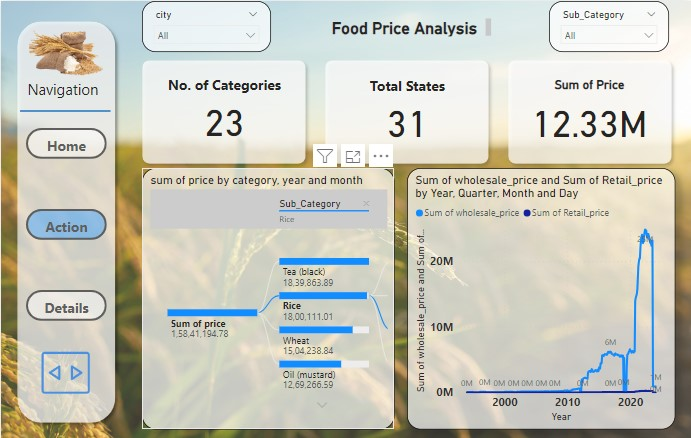

Layout of this report page (visuals, bound fields, positions):
{"tool":"powerbi","page":{"name":"Page 2","canvas":[1000,634],"ordinal":1},"visuals":[{"type":"shape","box":[15,20,160,600],"z":0},{"type":"actionButton","box":[35.5,184.2,117.1,44.7],"z":1000},{"type":"image","box":[31.4,31.4,128.6,84.3],"z":2000},{"type":"actionButton","box":[35.5,301.3,117.1,44.7],"z":3000},{"type":"actionButton","box":[35.5,418.4,117.1,44.7],"z":4000},{"type":"image","box":[50.7,493,85.9,93],"z":5000},{"type":"shape","box":[28.2,135.2,131,49.3],"z":6000},{"type":"shape","box":[196,77.2,254.7,168],"z":7000},{"type":"card","title":"No. of Categories","fields":{"Values":["food_prices_ind.no.of_foodtypes"]},"box":[221.3,107.9,204,102.7],"z":8000},{"type":"shape","box":[461.3,77.2,254.7,168],"z":9000},{"type":"card","title":"Total States","fields":{"Values":["food_prices_ind.Total_States"]},"box":[485.3,109.2,206.7,102.7],"z":10000},{"type":"lineChart","fields":{"Category":["food_prices_ind.date.Variation.Date Hierarchy.Year","food_prices_ind.date.Variation.Date Hierarchy.Quarter","food_prices_ind.date.Variation.Date Hierarchy.Month","food_prices_ind.date.Variation.Date Hierarchy.Day"],"Y":["Sum(food_prices_ind.wholesale_price)","Sum(food_prices_ind.Retail_price)"]},"box":[588,241.3,389.3,378.7],"z":11000},{"type":"shape","box":[726.7,77.2,254.7,168],"z":12000},{"type":"decompositionTreeVisual","title":"sum of price by category, year and month","fields":{"Analyze":["Sum(food_prices_ind.price)"],"ExplainBy":["food_prices_ind.commodity","food_prices_ind.year","food_prices_ind.date Hierarchy.month"]},"box":[204.3,241.4,365.7,378.6],"z":13000},{"type":"textbox","box":[33.3,108,122.7,42.7],"z":14000},{"type":"card","title":"Sum of Price","fields":{"Values":["Sum(food_prices_ind.Retail_price)"]},"box":[754.3,110,198.6,101.4],"z":15000},{"type":"slicer","fields":{"Values":["food_prices_ind.commodity"]},"box":[794.3,0,174.3,74.3],"z":16000},{"type":"slicer","fields":{"Values":["food_prices_ind.city"]},"box":[204.3,0,187.1,74.3],"z":17000},{"type":"textbox","box":[462.9,20,252.9,35.7],"z":18000}]}

Visuals, with their boxes in screenshot pixels (x1, y1, x2, y2), scaled from the page's 1000x634 canvas onto the 691x438 screenshot:
shape: {"left": 10, "top": 14, "right": 121, "bottom": 428}
actionButton: {"left": 25, "top": 127, "right": 105, "bottom": 158}
image: {"left": 22, "top": 22, "right": 111, "bottom": 80}
actionButton: {"left": 25, "top": 208, "right": 105, "bottom": 239}
actionButton: {"left": 25, "top": 289, "right": 105, "bottom": 320}
image: {"left": 35, "top": 341, "right": 94, "bottom": 405}
shape: {"left": 19, "top": 93, "right": 110, "bottom": 127}
shape: {"left": 135, "top": 53, "right": 311, "bottom": 169}
"No. of Categories" card: {"left": 153, "top": 75, "right": 294, "bottom": 145}
shape: {"left": 319, "top": 53, "right": 495, "bottom": 169}
"Total States" card: {"left": 335, "top": 75, "right": 478, "bottom": 146}
lineChart - food_prices_ind.date.Variation.Date Hierarchy.Year x food_prices_ind.date.Variation.Date Hierarchy.Quarter: {"left": 406, "top": 167, "right": 675, "bottom": 428}
shape: {"left": 502, "top": 53, "right": 678, "bottom": 169}
"sum of price by category, year and month" decompositionTreeVisual: {"left": 141, "top": 167, "right": 394, "bottom": 428}
textbox: {"left": 23, "top": 75, "right": 108, "bottom": 104}
"Sum of Price" card: {"left": 521, "top": 76, "right": 658, "bottom": 146}
slicer - food_prices_ind.commodity: {"left": 549, "top": 0, "right": 669, "bottom": 51}
slicer - food_prices_ind.city: {"left": 141, "top": 0, "right": 270, "bottom": 51}
textbox: {"left": 320, "top": 14, "right": 495, "bottom": 38}
